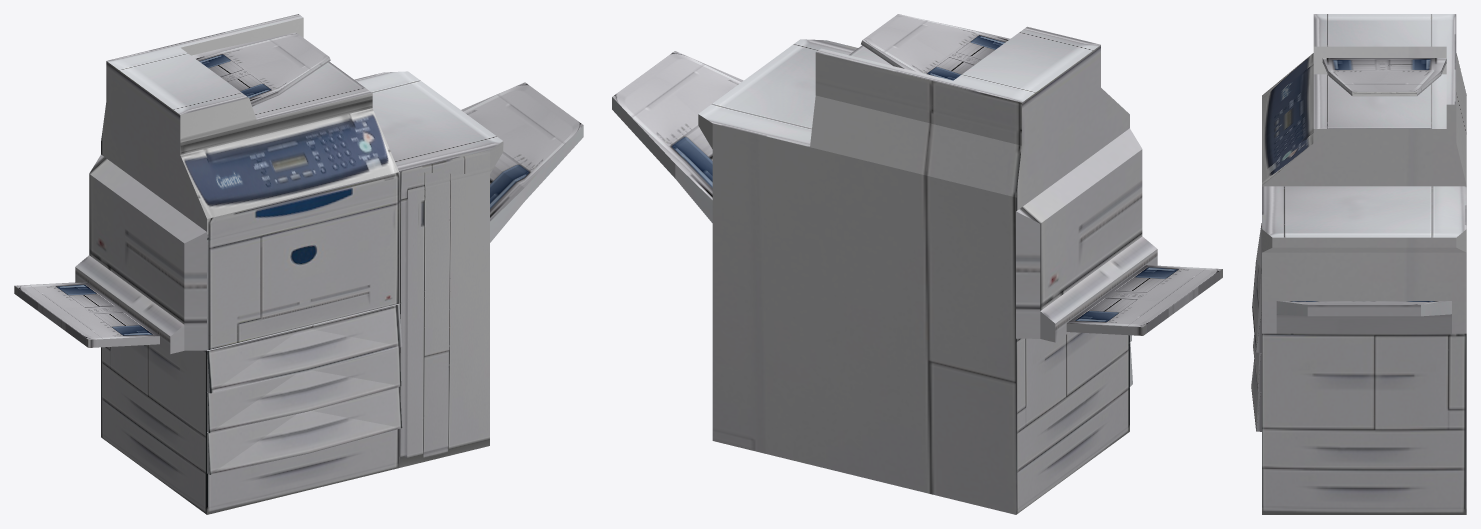
The model's file is xcopier.fbx.
3 views of the same model, side by side, from view 1: azimuth 30°, elevation 25°; view 2: azimuth 150°, elevation 25°; view 3: azimuth 270°, elevation 25° (orthographic). The views are drawn at different scales.
Parts seen in each view (by area): view 1: pCube1; view 2: pCube1; view 3: pCube1.
Boxes of the visible parts, <box> form: pCube1: <box>14,14,583,514</box>; pCube1: <box>612,14,1222,514</box>; pCube1: <box>1251,14,1466,514</box>.
Bounding box in the file's own units: 5.34 × 3.88 × 2.05.
